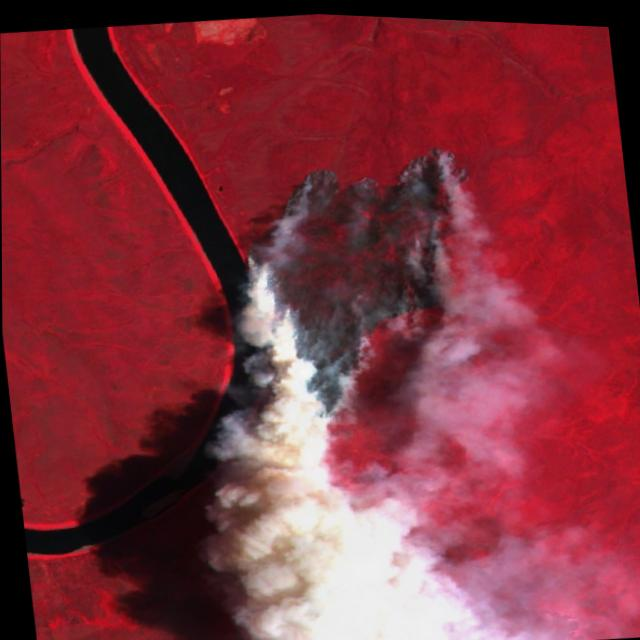fire: (227, 123, 512, 483)
